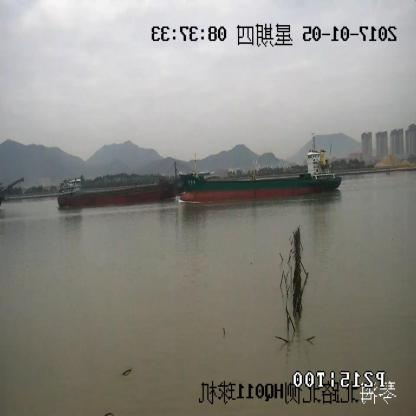Bulk Carrier: (178, 135, 339, 202), (58, 164, 176, 206)
